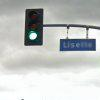Traffic light: (16, 0, 50, 49)
